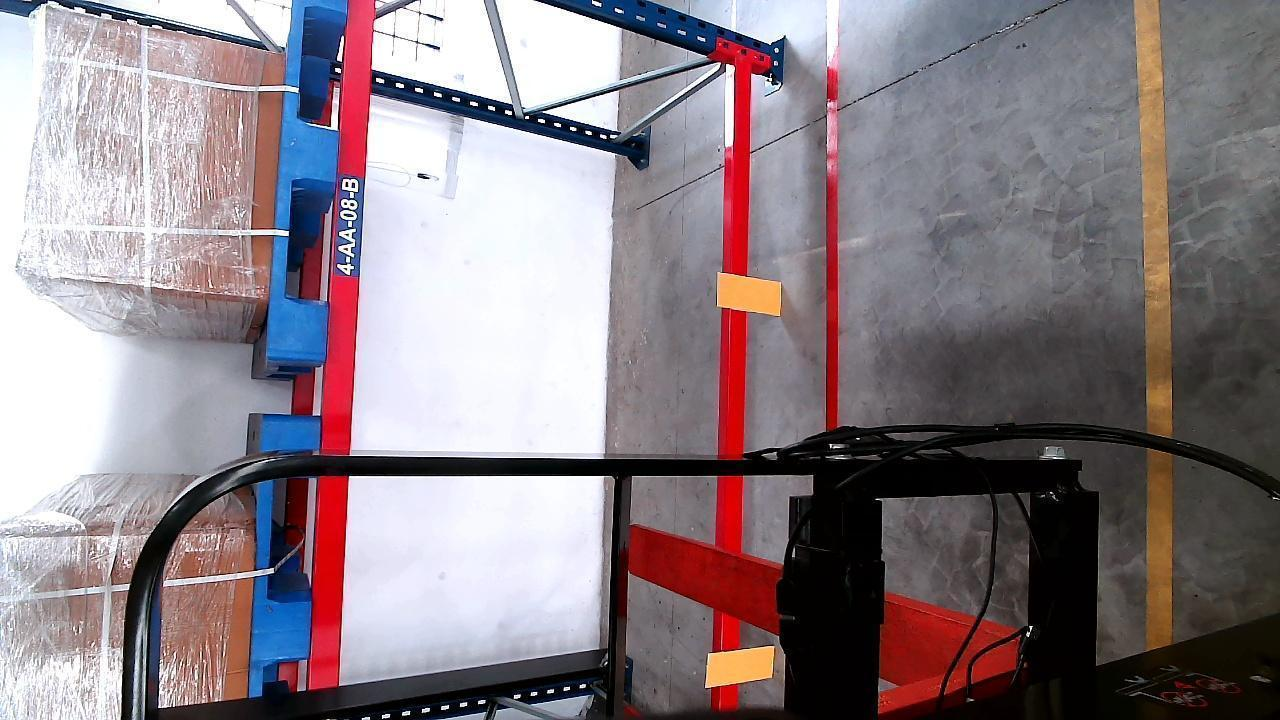yellow_line: (1133, 0, 1181, 655)
